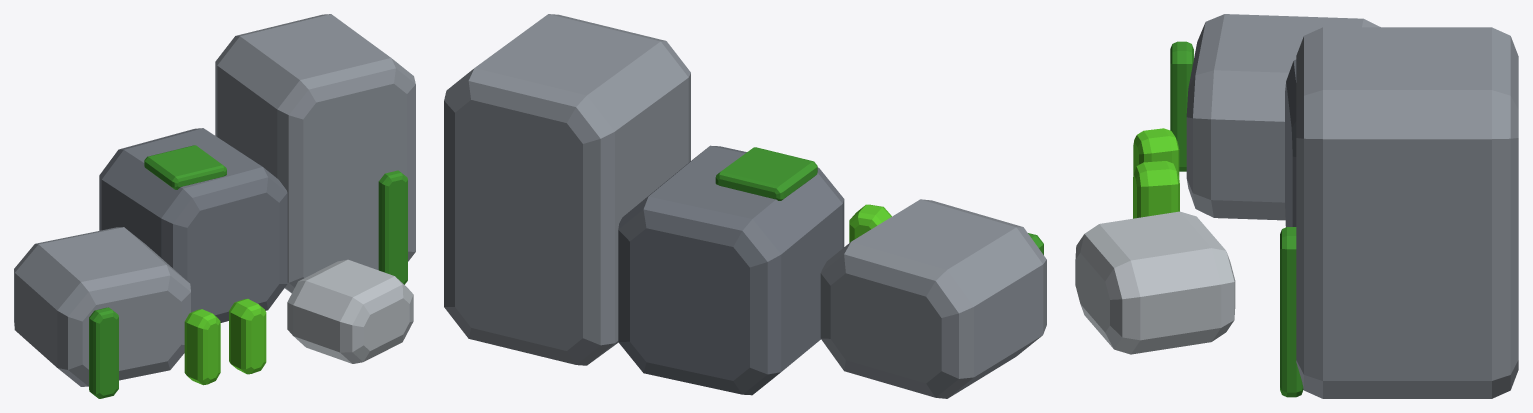
Rendered from DrownedVillage_Stone_Ruins.glb.
The picture shows the model from 3 angles, left to right: view 1: azimuth 30°, elevation 25°; view 2: azimuth 150°, elevation 25°; view 3: azimuth 270°, elevation 25°; orthographic projection. The views are drawn at different scales.
Visible parts, largest first — view 1: ruin_block_01, ruin_block_02, ruin_block_03, ruin_block_04, algae_strip_02, algae_strip_01, reed_02, reed_01, algae_cap_01; view 2: ruin_block_01, ruin_block_02, ruin_block_03, algae_cap_01, reed_02; view 3: ruin_block_01, ruin_block_03, ruin_block_04, algae_strip_02, reed_02, algae_strip_01, ruin_block_02, reed_01.
Part boxes in pixels (x1=…): ruin_block_01: x1=215, y1=14, x2=415, y2=293; ruin_block_02: x1=99, y1=128, x2=287, y2=322; ruin_block_03: x1=14, y1=227, x2=190, y2=386; ruin_block_04: x1=287, y1=259, x2=413, y2=363; algae_strip_02: x1=378, y1=170, x2=407, y2=284; algae_strip_01: x1=89, y1=307, x2=118, y2=398; reed_02: x1=229, y1=298, x2=266, y2=374; reed_01: x1=184, y1=309, x2=220, y2=385; algae_cap_01: x1=144, y1=145, x2=226, y2=189; ruin_block_01: x1=444, y1=14, x2=690, y2=365; ruin_block_02: x1=618, y1=145, x2=844, y2=395; ruin_block_03: x1=820, y1=199, x2=1046, y2=398; algae_cap_01: x1=715, y1=147, x2=817, y2=200; reed_02: x1=849, y1=204, x2=891, y2=242; ruin_block_01: x1=1296, y1=27, x2=1518, y2=398; ruin_block_03: x1=1186, y1=14, x2=1380, y2=220; ruin_block_04: x1=1075, y1=211, x2=1235, y2=354; algae_strip_02: x1=1280, y1=227, x2=1303, y2=397; reed_02: x1=1133, y1=161, x2=1179, y2=218; algae_strip_01: x1=1170, y1=41, x2=1193, y2=171; ruin_block_02: x1=1285, y1=59, x2=1296, y2=226; reed_01: x1=1133, y1=128, x2=1179, y2=176.
Bounding box in the file's own units: 2.14 × 1.15 × 1.49.
